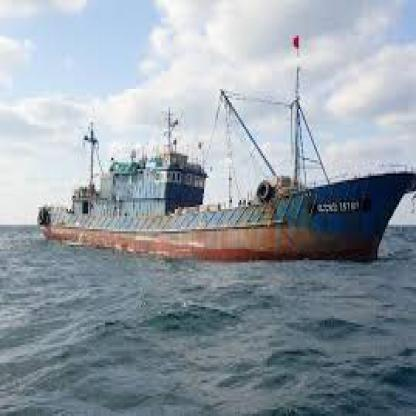fish-b: (33, 67, 414, 276)
